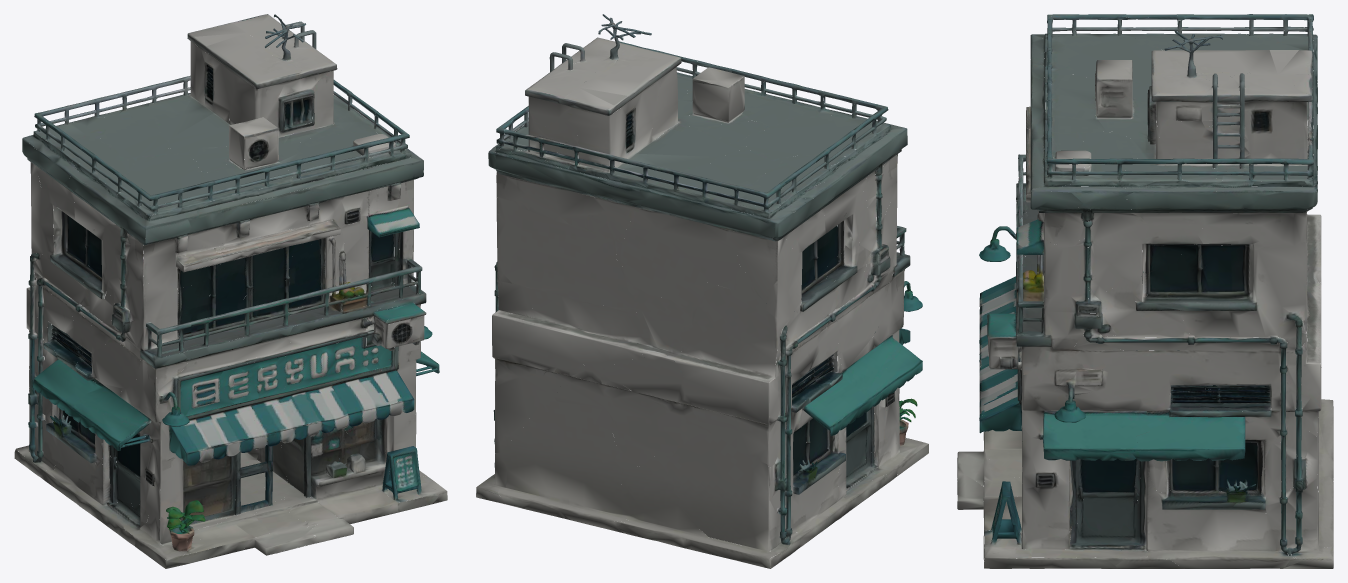
The model's file is building4.glb.
The picture shows the model from 3 angles, left to right: view 1: azimuth 30°, elevation 25°; view 2: azimuth 150°, elevation 25°; view 3: azimuth 270°, elevation 25°; orthographic projection. The views are drawn at different scales.
Visible parts, largest first — view 1: tripo_node_fda68afc-b3b2-4933-b97b-1450896ce0bf; view 2: tripo_node_fda68afc-b3b2-4933-b97b-1450896ce0bf; view 3: tripo_node_fda68afc-b3b2-4933-b97b-1450896ce0bf.
Boxes of the visible parts, <box> form: tripo_node_fda68afc-b3b2-4933-b97b-1450896ce0bf: <box>14,14,447,568</box>; tripo_node_fda68afc-b3b2-4933-b97b-1450896ce0bf: <box>476,14,928,568</box>; tripo_node_fda68afc-b3b2-4933-b97b-1450896ce0bf: <box>957,14,1333,568</box>.
Bounding box in the file's own units: 0.7881 × 1 × 0.6905.
1 material, 1 textured.
